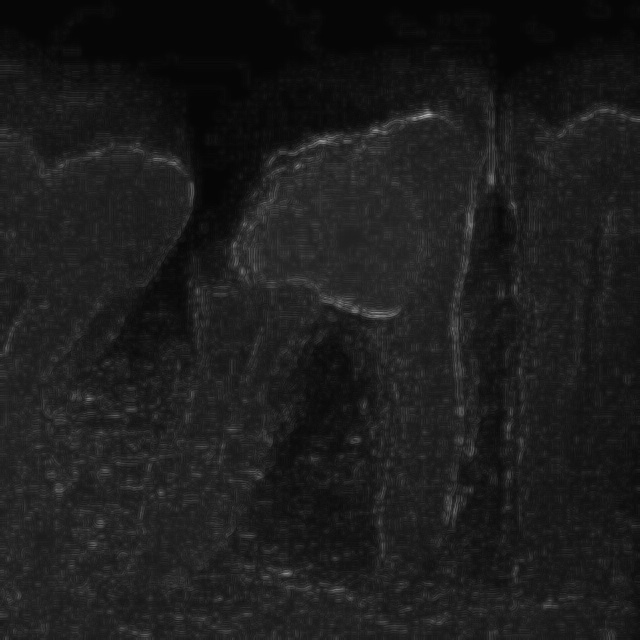Class 2- incomplete endodontic treatment: (106, 84, 524, 624)
